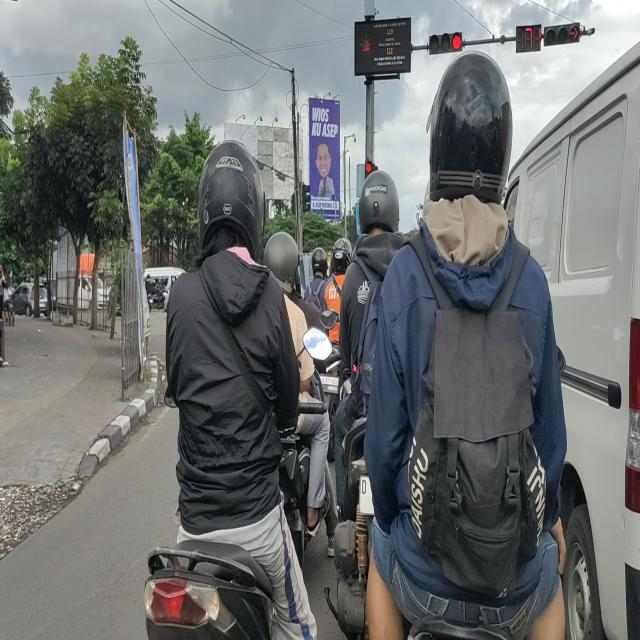helmet: (434, 58, 512, 203), (200, 155, 262, 240), (361, 173, 402, 232), (270, 236, 298, 292), (330, 240, 353, 278), (310, 248, 329, 277)
